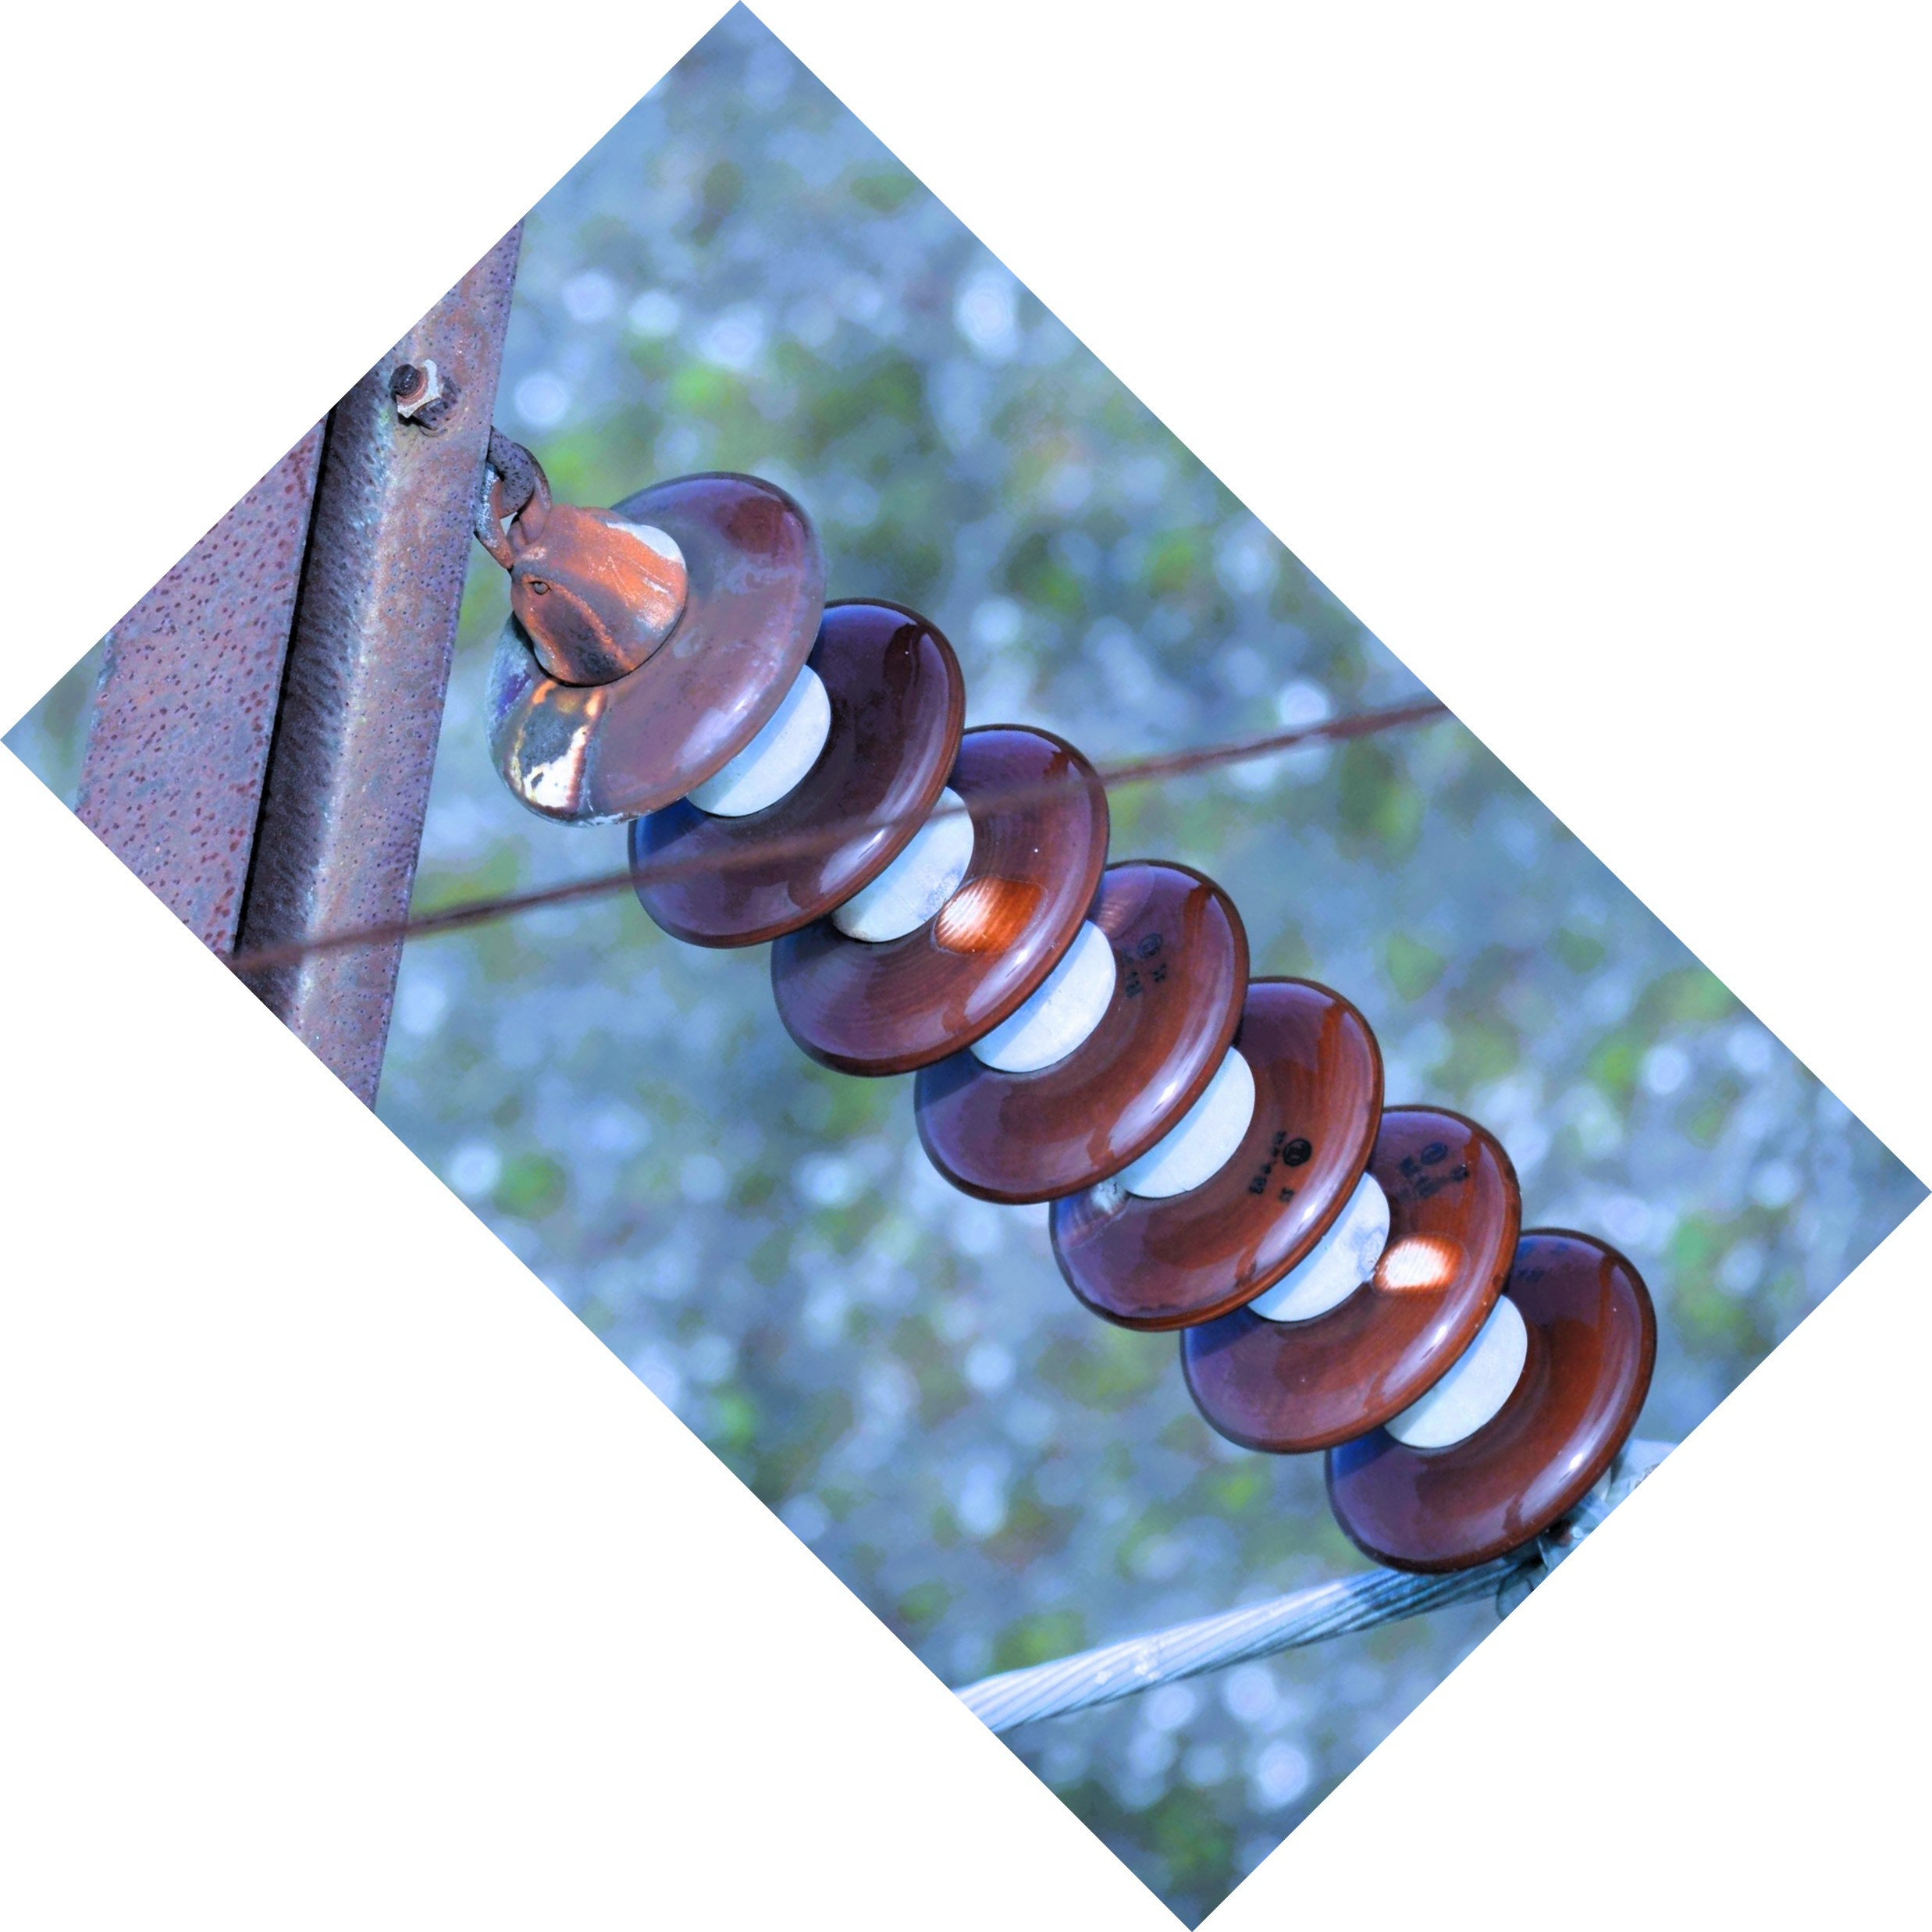Insulator flashover: (464, 465, 828, 840), (1185, 1077, 1530, 1456), (817, 759, 1125, 1079)
